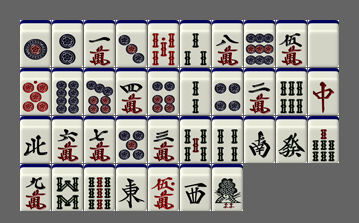0m: (148, 164, 179, 211)
0p: (20, 68, 51, 115)
0s: (148, 20, 179, 67)
1m: (84, 20, 115, 67)
1p: (20, 20, 51, 67)
1s: (212, 164, 243, 211)
1z: (116, 164, 147, 211)
2m: (244, 68, 275, 115)
2p: (52, 20, 83, 67)
2s: (180, 68, 211, 115)
2z: (244, 116, 275, 163)
3m: (148, 116, 179, 163)
3p: (116, 20, 147, 67)
3s: (180, 20, 211, 67)
3z: (180, 164, 211, 211)
4m: (116, 68, 147, 115)
4p: (212, 68, 243, 115)
4s: (212, 116, 243, 163)
4z: (20, 116, 51, 163)
5m: (276, 20, 307, 67)
5p: (116, 116, 147, 163)
5s: (180, 116, 211, 163)
5z: (308, 20, 339, 67)
6m: (52, 116, 83, 163)
6p: (148, 68, 179, 115)
6s: (276, 68, 307, 115)
6z: (276, 116, 307, 163)
7m: (84, 116, 115, 163)
7p: (84, 68, 115, 115)
7s: (308, 116, 339, 163)
7z: (308, 68, 339, 115)
8m: (212, 20, 243, 67)
8p: (52, 68, 83, 115)
8s: (52, 164, 83, 211)
9m: (20, 164, 51, 211)
9p: (244, 20, 275, 67)
9s: (84, 164, 115, 211)
